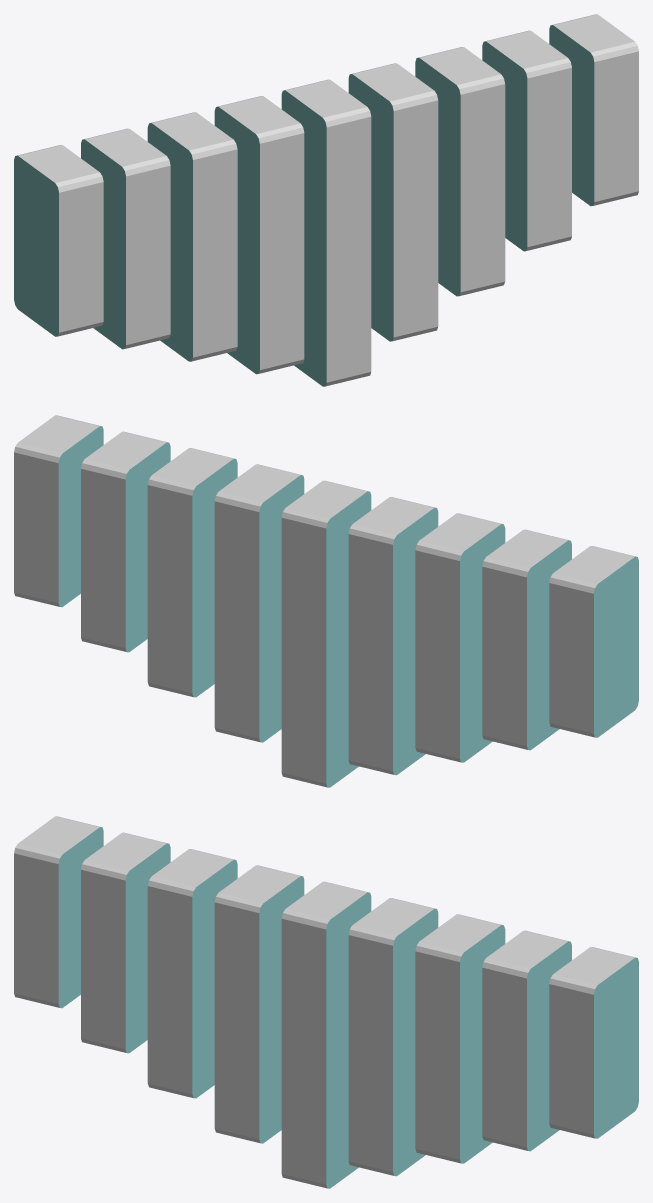
File: W_M_maze_DecoLight_L1.fbx
The picture shows the model from 3 angles, top to bottom: view 1: azimuth 30°, elevation 25°; view 2: azimuth 150°, elevation 25°; view 3: azimuth 330°, elevation 25°; orthographic projection.
Parts seen in each view (by area): view 1: W_M_maze_DecoLight_L1; view 2: W_M_maze_DecoLight_L1; view 3: W_M_maze_DecoLight_L1.
Boxes of the visible parts, <box> form: W_M_maze_DecoLight_L1: <box>14,14,638,386</box>; W_M_maze_DecoLight_L1: <box>14,415,638,787</box>; W_M_maze_DecoLight_L1: <box>14,816,638,1188</box>.
Bounding box in the file's own units: 2.45 × 0.331 × 1.09.
